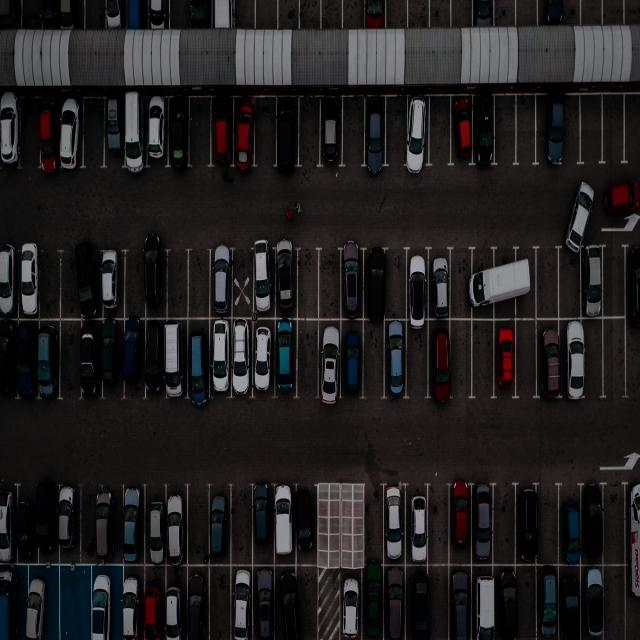empty: (58, 562, 93, 638), (206, 563, 235, 639), (292, 320, 319, 398), (602, 318, 629, 396), (230, 485, 256, 565), (422, 564, 450, 638), (291, 564, 319, 638), (58, 320, 84, 398), (404, 322, 431, 397), (512, 320, 538, 397), (448, 319, 473, 398), (471, 318, 496, 396), (425, 96, 452, 168), (426, 486, 450, 566), (361, 320, 386, 396), (603, 244, 629, 317), (557, 243, 582, 318), (492, 487, 516, 565), (184, 488, 208, 566), (534, 246, 559, 320), (603, 96, 628, 170), (537, 489, 561, 566), (361, 488, 384, 568), (604, 562, 628, 638), (188, 98, 214, 168), (582, 318, 605, 397), (383, 97, 408, 169), (448, 250, 474, 319), (492, 93, 516, 166), (255, 94, 279, 167), (228, 247, 252, 320), (381, 250, 406, 320), (515, 566, 539, 638), (602, 486, 624, 564), (342, 96, 366, 167), (166, 250, 191, 318), (316, 250, 341, 318), (298, 98, 323, 166), (83, 98, 107, 168), (20, 99, 43, 172), (297, 249, 321, 318), (515, 94, 538, 166), (580, 96, 603, 168), (38, 251, 61, 321), (124, 251, 148, 318), (187, 250, 210, 318), (61, 251, 84, 318), (78, 488, 98, 562), (318, 491, 337, 567), (625, 319, 640, 395), (624, 94, 640, 164), (342, 0, 366, 30), (319, 0, 342, 31), (384, 0, 408, 29), (256, 0, 279, 30), (299, 0, 322, 30), (85, 0, 107, 31), (21, 0, 43, 30), (277, 0, 299, 30), (430, 0, 453, 28), (234, 0, 256, 29), (515, 0, 538, 27), (451, 0, 474, 27), (168, 0, 189, 29), (408, 1, 430, 28), (493, 0, 515, 26), (581, 0, 603, 25), (601, 1, 624, 24), (624, 0, 640, 23)
occupied: (16, 563, 56, 640), (86, 562, 120, 638), (560, 318, 590, 399), (539, 94, 570, 168), (536, 320, 564, 398), (186, 319, 213, 399), (32, 318, 59, 398), (251, 319, 278, 398), (230, 565, 258, 640), (446, 483, 472, 563), (121, 484, 147, 564), (182, 564, 210, 638), (471, 564, 499, 638), (122, 318, 148, 397), (207, 319, 233, 398), (161, 319, 187, 398), (492, 318, 519, 394), (272, 318, 298, 396), (339, 318, 365, 396), (380, 483, 405, 564), (30, 483, 56, 560), (160, 566, 187, 640), (208, 485, 233, 564), (405, 484, 430, 563), (471, 483, 496, 562), (227, 319, 252, 398), (404, 97, 431, 170), (404, 250, 432, 320), (448, 564, 474, 639), (163, 486, 188, 564), (140, 564, 166, 639), (471, 246, 498, 318), (491, 246, 518, 318), (318, 316, 342, 396), (100, 316, 124, 396), (12, 319, 36, 399), (449, 95, 476, 166), (340, 569, 367, 640), (100, 250, 128, 318), (121, 563, 146, 639), (94, 487, 119, 563), (273, 246, 299, 319), (383, 321, 408, 396), (142, 486, 166, 564), (534, 566, 559, 640), (123, 96, 148, 170), (57, 486, 82, 560), (208, 247, 234, 318), (254, 244, 279, 317), (428, 322, 452, 398), (558, 562, 582, 638), (361, 250, 387, 320), (209, 97, 234, 169), (380, 563, 404, 638), (274, 563, 298, 638), (253, 565, 277, 640), (560, 490, 584, 564), (405, 564, 429, 638), (144, 96, 168, 169), (578, 245, 602, 318), (59, 98, 84, 168), (273, 486, 296, 562), (578, 562, 601, 638), (254, 485, 276, 564), (364, 97, 388, 169), (15, 248, 39, 320), (168, 98, 192, 170), (512, 246, 536, 318), (292, 491, 315, 566), (515, 489, 538, 564), (426, 252, 452, 318), (82, 319, 104, 397), (144, 319, 166, 397), (230, 97, 254, 168), (318, 98, 343, 166), (274, 98, 298, 168), (494, 567, 517, 640), (359, 567, 382, 640), (340, 250, 365, 317), (580, 490, 602, 566), (473, 98, 496, 168), (16, 485, 37, 561), (0, 564, 21, 640), (144, 250, 168, 316), (39, 98, 60, 171), (81, 248, 103, 317), (105, 98, 126, 169), (0, 96, 21, 167), (0, 245, 19, 318), (0, 490, 17, 567), (625, 481, 640, 563), (625, 560, 640, 637), (0, 318, 14, 397), (540, 0, 580, 25), (627, 244, 640, 318), (56, 0, 81, 29), (146, 0, 170, 29), (362, 0, 386, 29), (210, 0, 234, 29), (126, 0, 149, 30), (188, 0, 211, 29), (473, 1, 497, 27), (104, 0, 125, 29), (0, 0, 20, 30), (39, 0, 58, 29), (68, 0, 85, 29)
